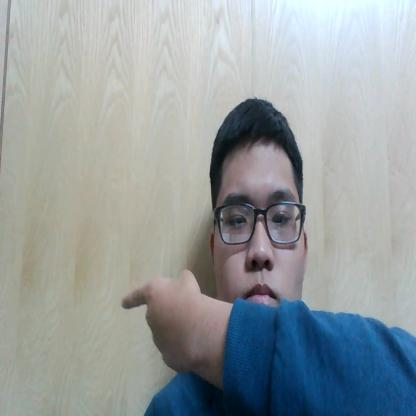right: (113, 255, 207, 392)
